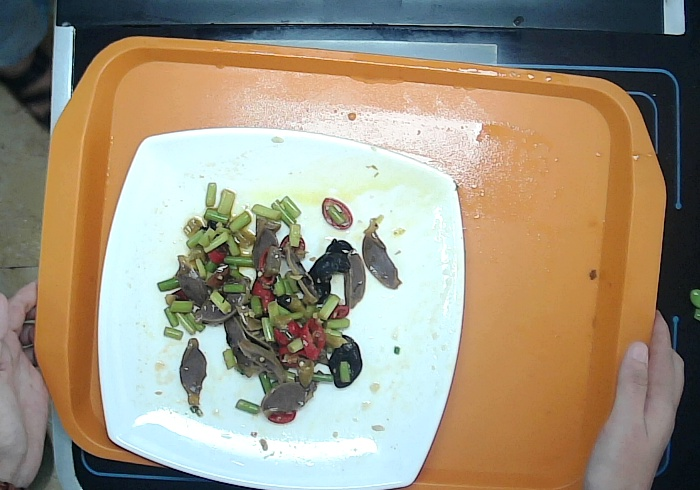ZNLD-Bai_Fang_Pan: (88, 126, 469, 485)
